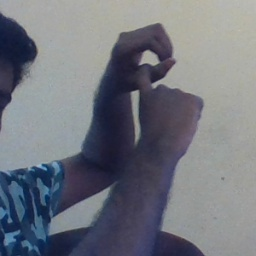Q: (100, 19, 212, 141)
